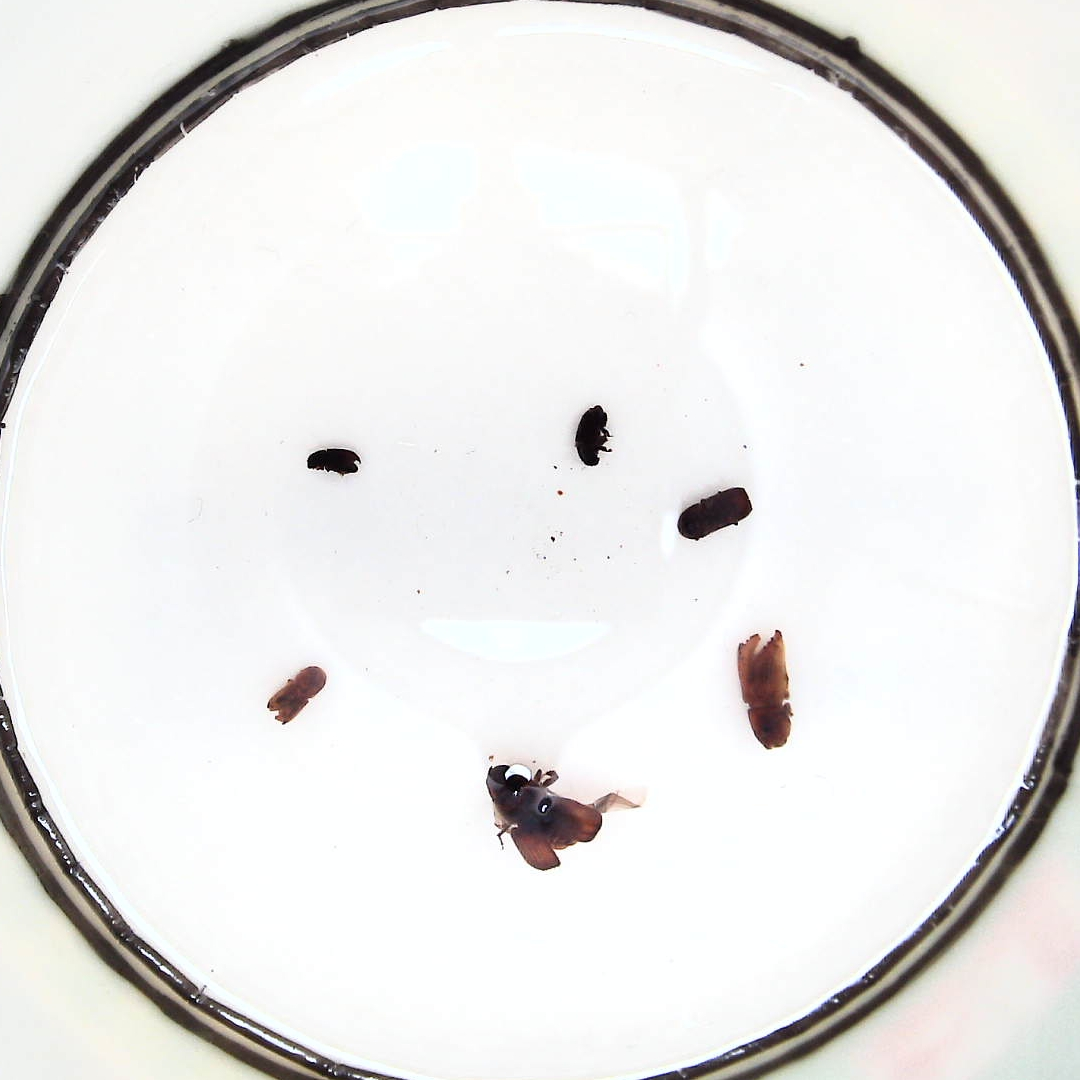Boerner: (737, 629, 794, 750)
Leconte: (486, 764, 602, 871)
acuminatus: (576, 405, 611, 467)
armandi: (267, 667, 326, 724)
coleoptera: (307, 448, 361, 476)
linnaeus: (677, 487, 753, 541)
